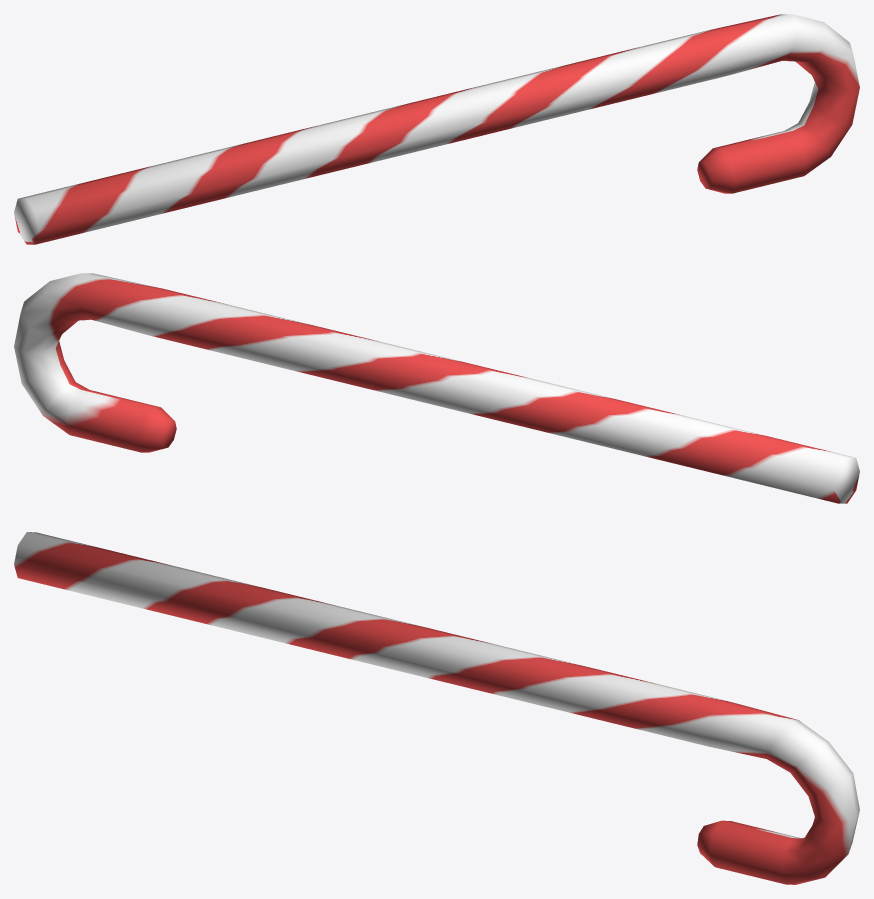
The model's file is sucreDorgeRight.glb.
The picture shows the model from 3 angles, top to bottom: view 1: azimuth 30°, elevation 25°; view 2: azimuth 150°, elevation 25°; view 3: azimuth 330°, elevation 25°; orthographic projection.
Parts seen in each view (by area): view 1: Cylinder.035; view 2: Cylinder.035; view 3: Cylinder.035.
Part boxes in pixels (box(x1,y1,x2,y2)): Cylinder.035: box(14, 14, 859, 244); Cylinder.035: box(14, 273, 859, 503); Cylinder.035: box(14, 532, 859, 884).
Bounding box in the file's own units: 5.79 × 1.1 × 0.3097.
1 material, 1 textured.
